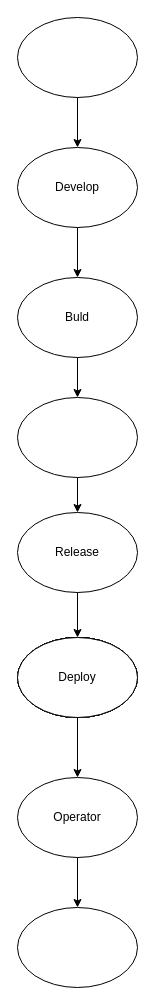
Some shapes in this 155 by 1005 pixel diagram are drawn without their labels. Here are the shapes that lost their labels. From the top down, the centre of each, then its label:
the point at 77,57: Plan
the point at 77,437: Text
the point at 77,947: Moniitor
